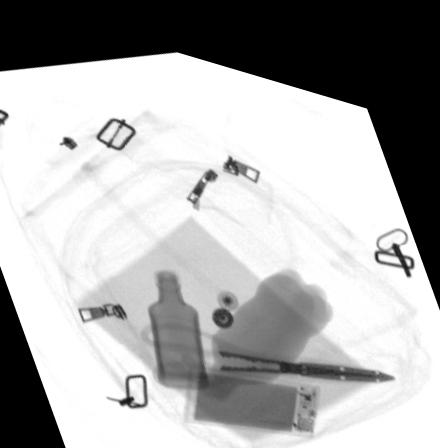Powerbank: (183, 350, 319, 420)
Scissors: (139, 312, 397, 378)
